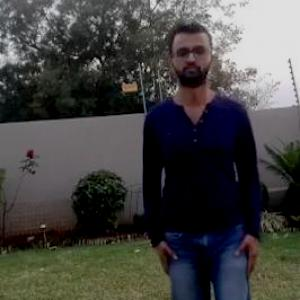follow: (149, 55, 251, 299)
